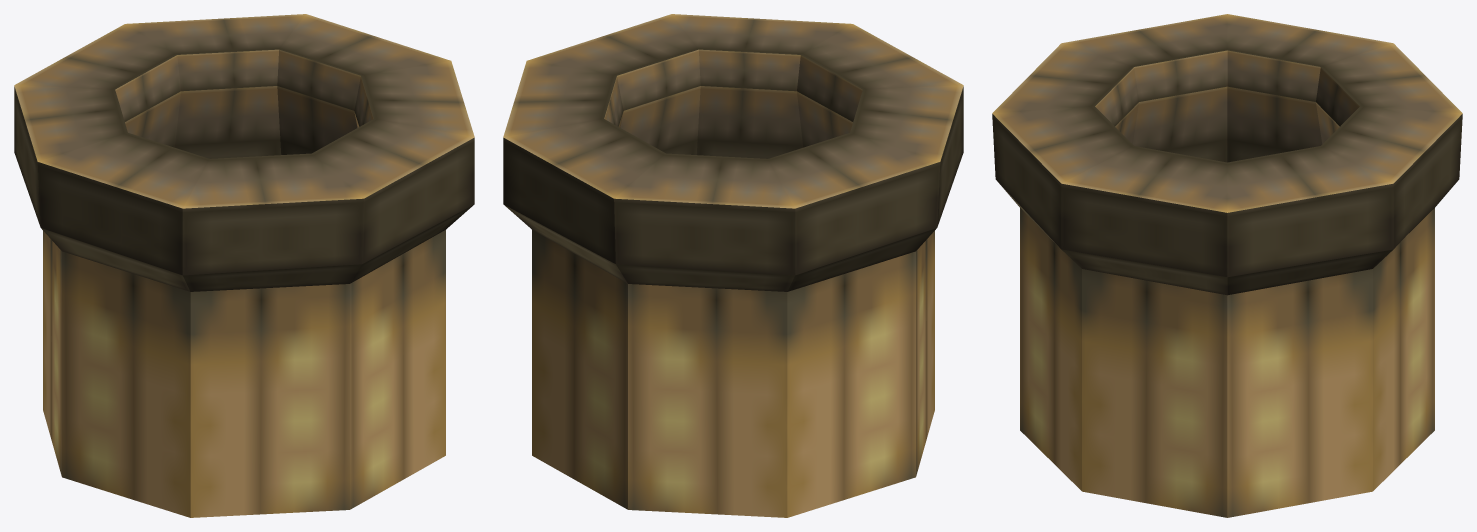
The model's file is Poly_Well_01.obj.
The picture shows the model from 3 angles, left to right: view 1: azimuth 30°, elevation 25°; view 2: azimuth 150°, elevation 25°; view 3: azimuth 270°, elevation 25°; orthographic projection.
Parts seen in each view (by area): view 1: Torus; view 2: Torus; view 3: Torus.
Boxes of the visible parts, <box> form: Torus: <box>14,14,474,517</box>; Torus: <box>503,14,963,517</box>; Torus: <box>992,14,1462,517</box>.
Size of the model in its own units: 1.36 by 1.04 by 1.36.
Materials: 2 (2 with a texture image).
